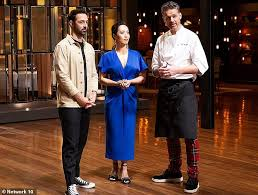Bad: (99, 1, 207, 191), (53, 9, 147, 195)
